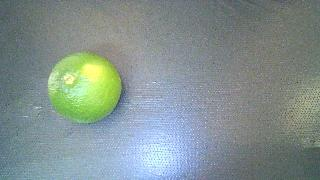EXPORTACION: (48, 52, 121, 123)
